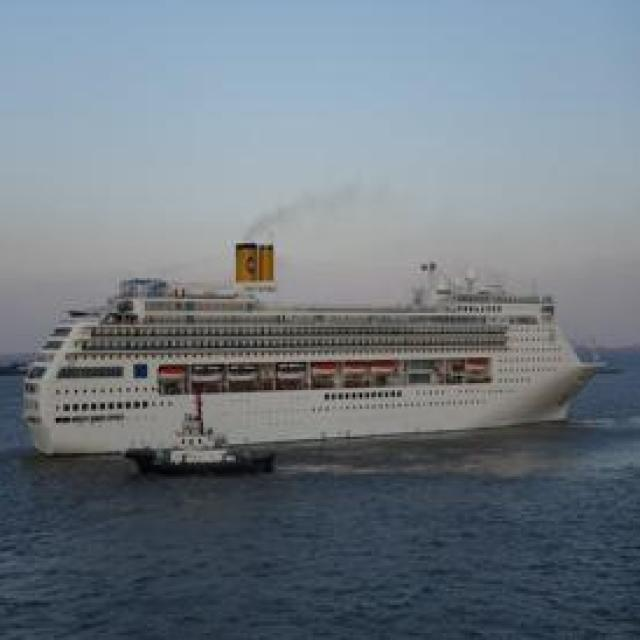cargoship: (124, 407, 279, 473)
passenger ship: (18, 232, 606, 440)
